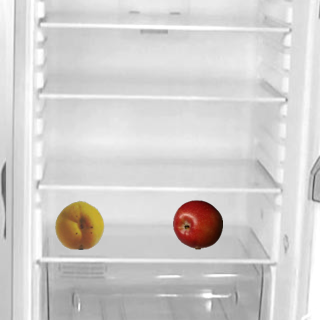Apple Braeburn: (172, 199, 222, 249)
Peach 2: (54, 199, 104, 249)
